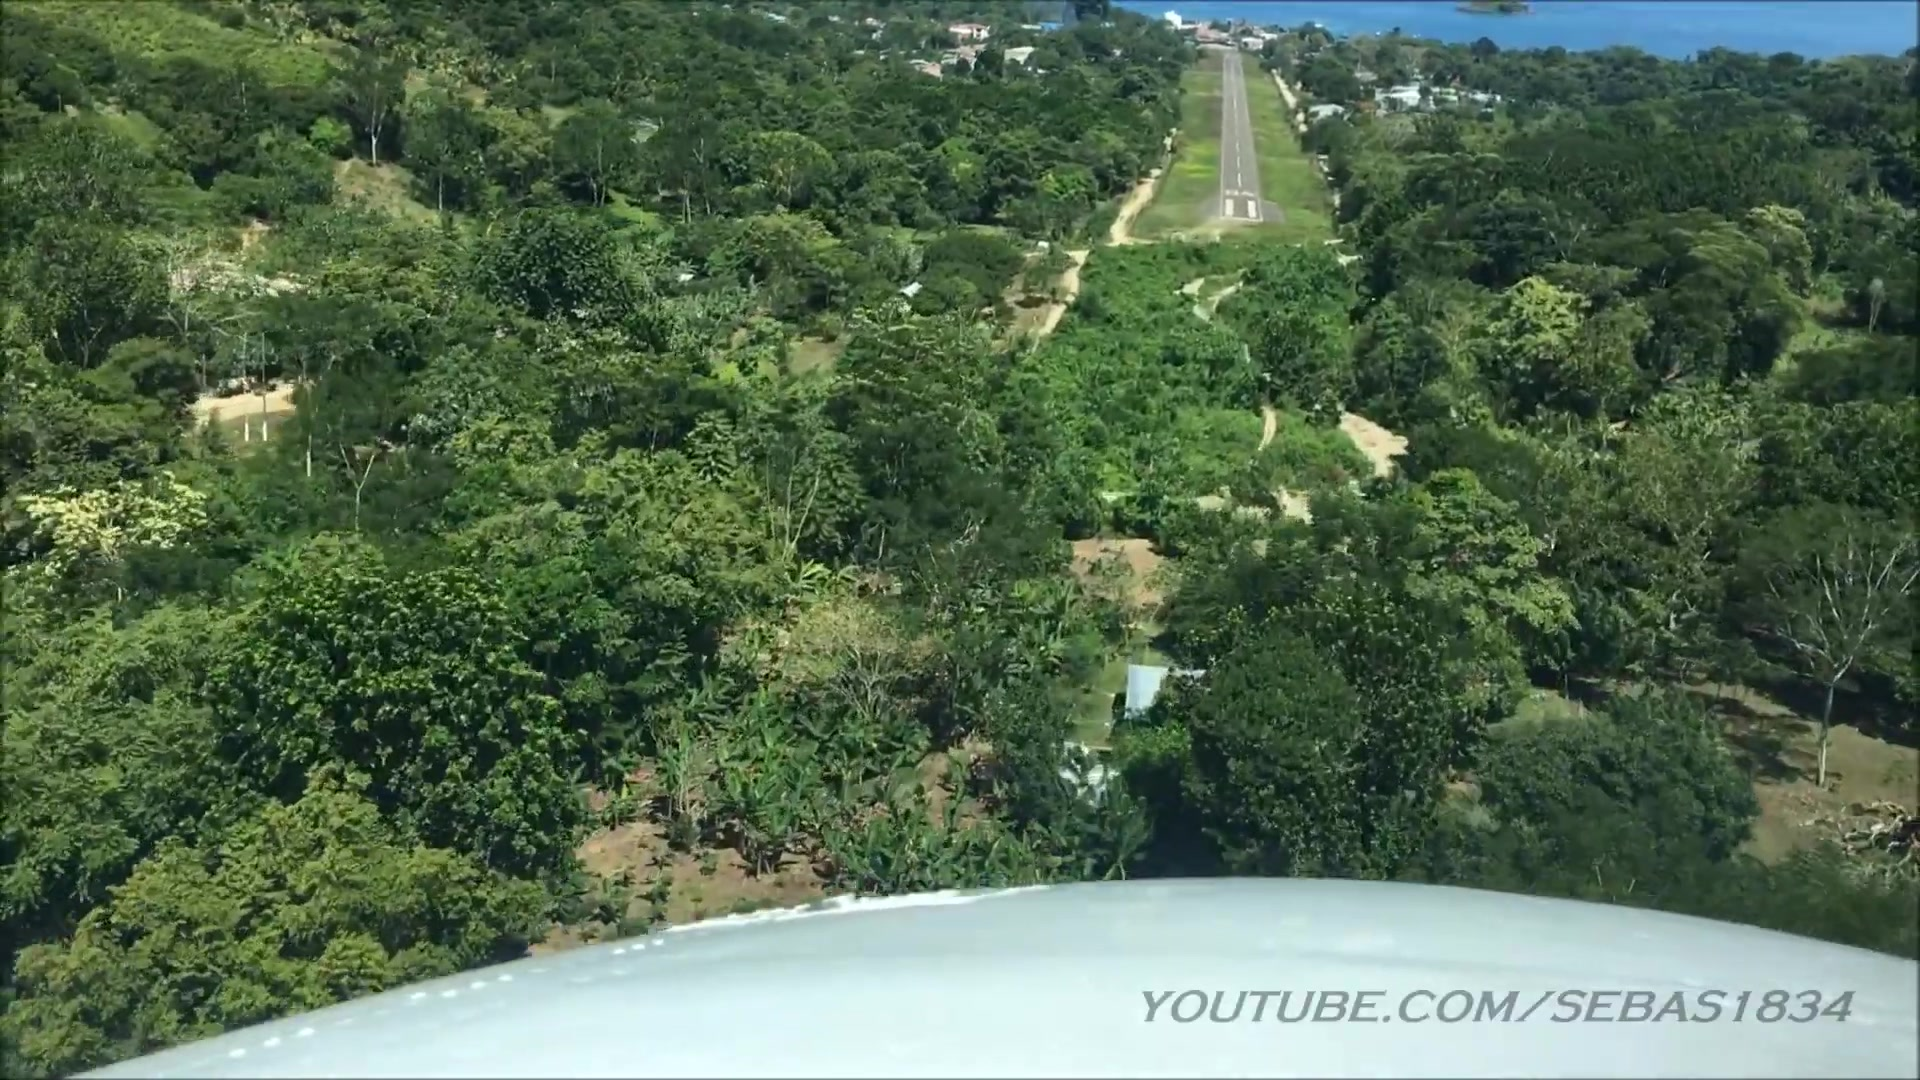entrance: (1222, 196, 1258, 218)
runway: (1218, 51, 1259, 222)
